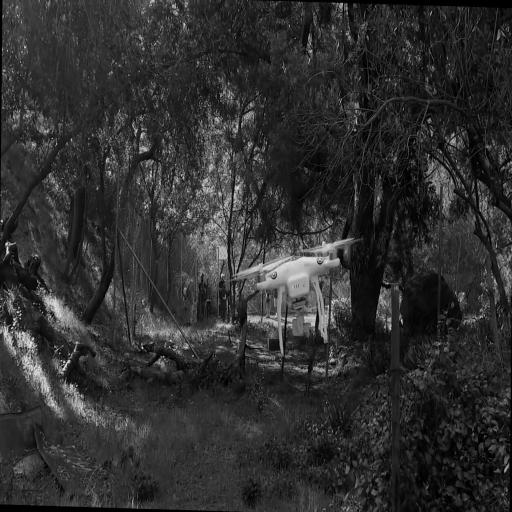drone: (231, 230, 362, 360)
